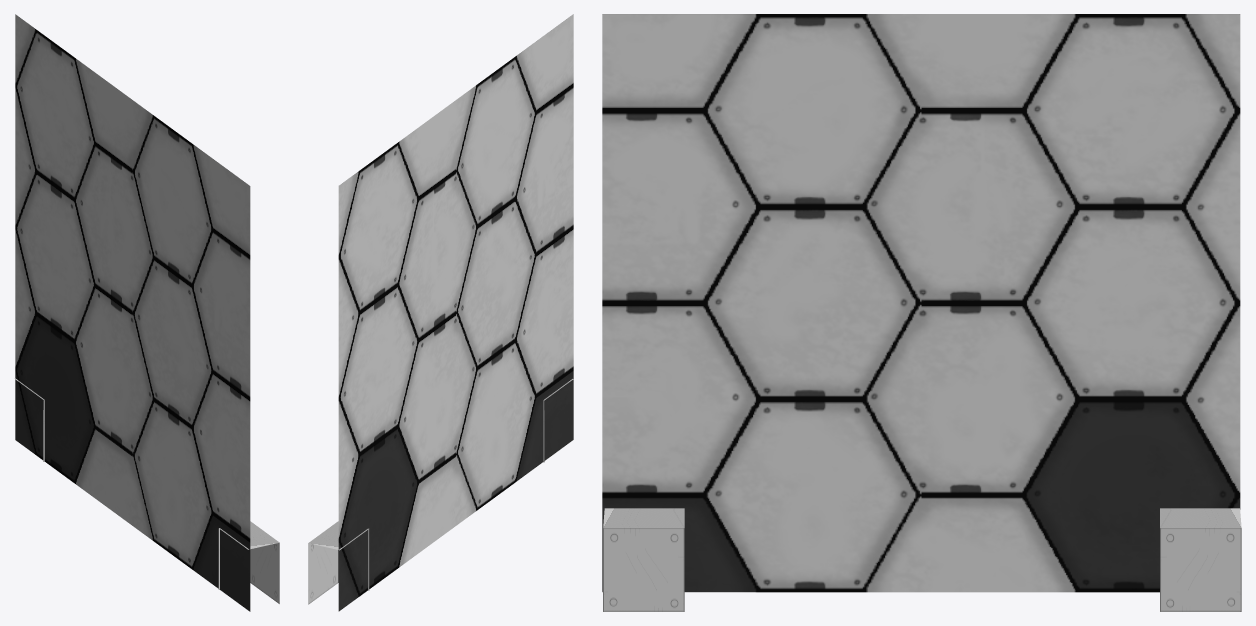
File: Wall_CornerBottom.fbx
The picture shows the model from 3 angles, left to right: view 1: azimuth 30°, elevation 25°; view 2: azimuth 150°, elevation 25°; view 3: azimuth 270°, elevation 25°; orthographic projection. The views are drawn at different scales.
Parts seen in each view (by area): view 1: pPlane112; view 2: pPlane112; view 3: pPlane112.
Boxes of the visible parts, left/top/right/bottom form: pPlane112: left=14, top=14, right=279, bottom=611; pPlane112: left=308, top=14, right=573, bottom=611; pPlane112: left=602, top=14, right=1241, bottom=611.
Bounding box in the file's own units: 0.1534 × 2 × 2.
